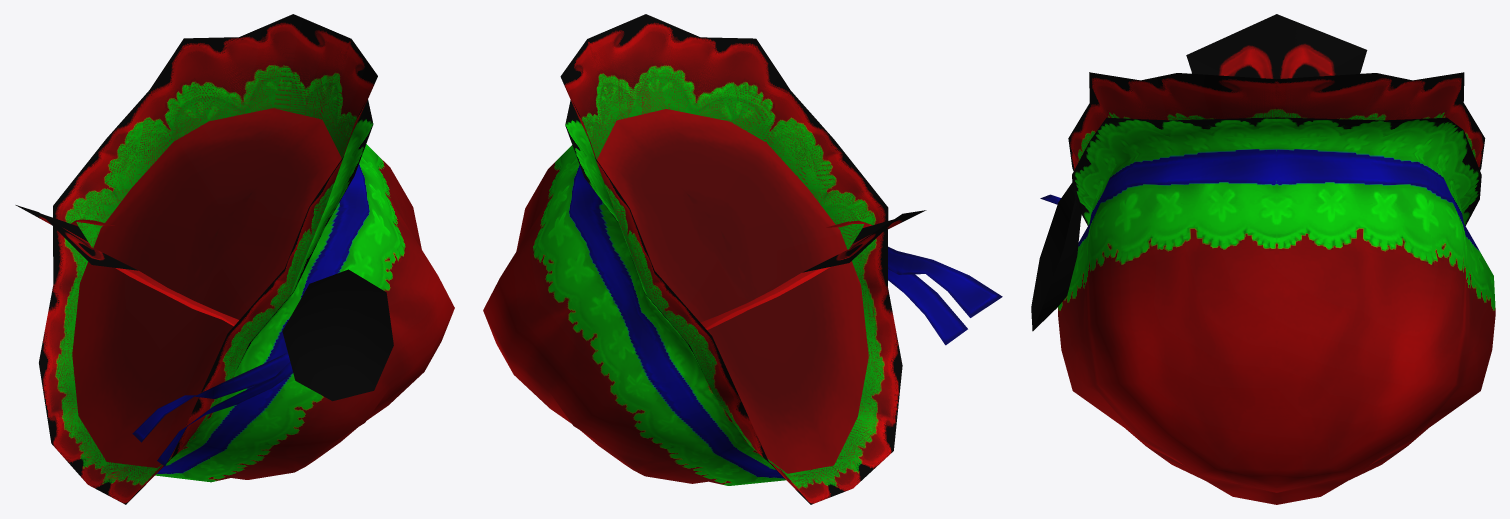
3 views of the same model, side by side, from view 1: azimuth 30°, elevation 25°; view 2: azimuth 150°, elevation 25°; view 3: azimuth 270°, elevation 25° (orthographic). The views are drawn at different scales.
Visible parts, largest first — view 1: C1182; view 2: C1182; view 3: C1182.
Part boxes in pixels (x1=…): C1182: x1=15, y1=14, x2=454, y2=504; C1182: x1=483, y1=14, x2=1002, y2=504; C1182: x1=1031, y1=14, x2=1495, y2=504.
Bounding box in the file's own units: 0.579 × 0.5838 × 0.5205.
